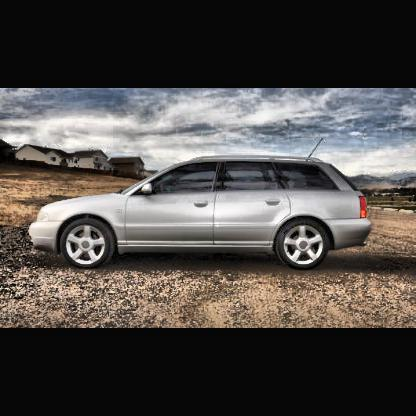Audi 100 Wagon 1994: (29, 137, 375, 271)
